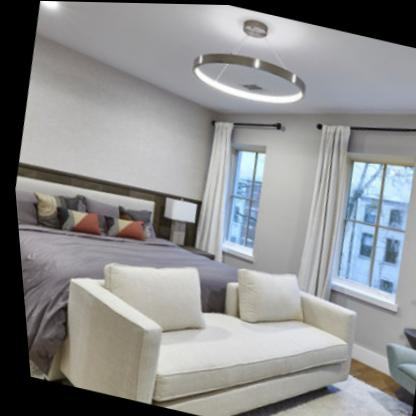Bed: (11, 165, 248, 376)
Curtains: (292, 123, 349, 300), (189, 120, 231, 259)
Sofa: (76, 234, 365, 416)
